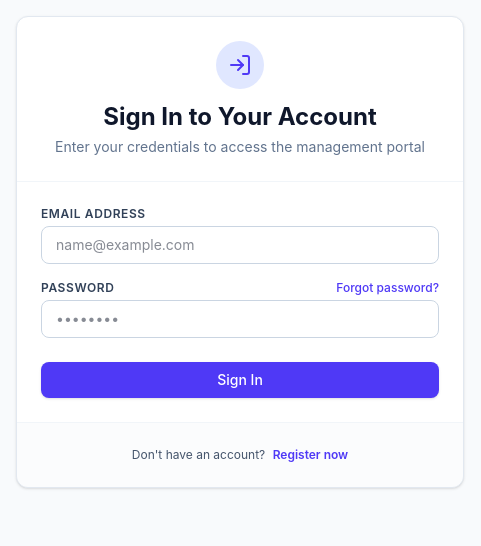
Test: LoginPage Component › displays invalid email error on malformed email
In the field with placeholder "name@example.com": (240, 245) x1=41 y1=226 x2=439 y2=264, type "not-an-email"
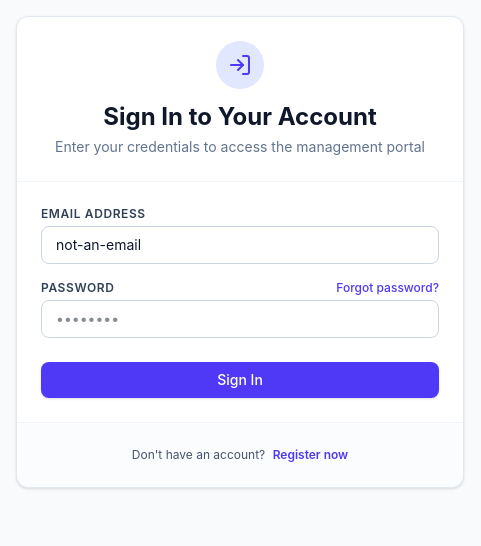
Submit the form with placeholder "name@example.com", box x1=41 y1=206 x2=439 y2=398
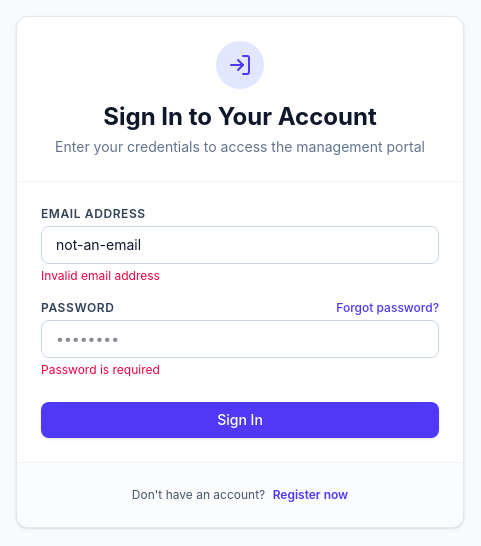
Expected: the text "Invalid email address" is shown, x1=41 y1=268 x2=160 y2=283
